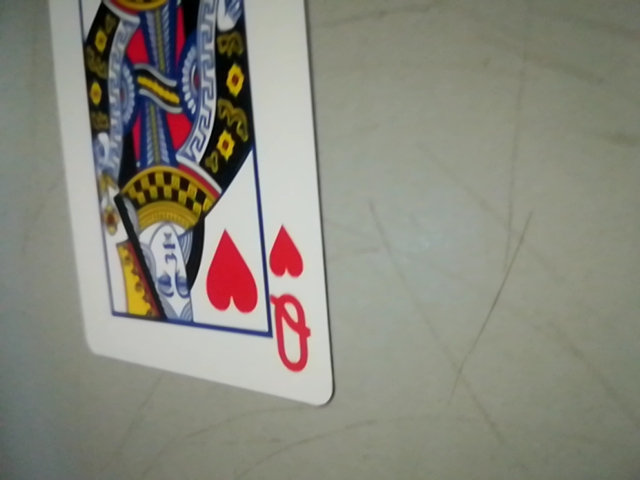hx q: (263, 211, 321, 393)
